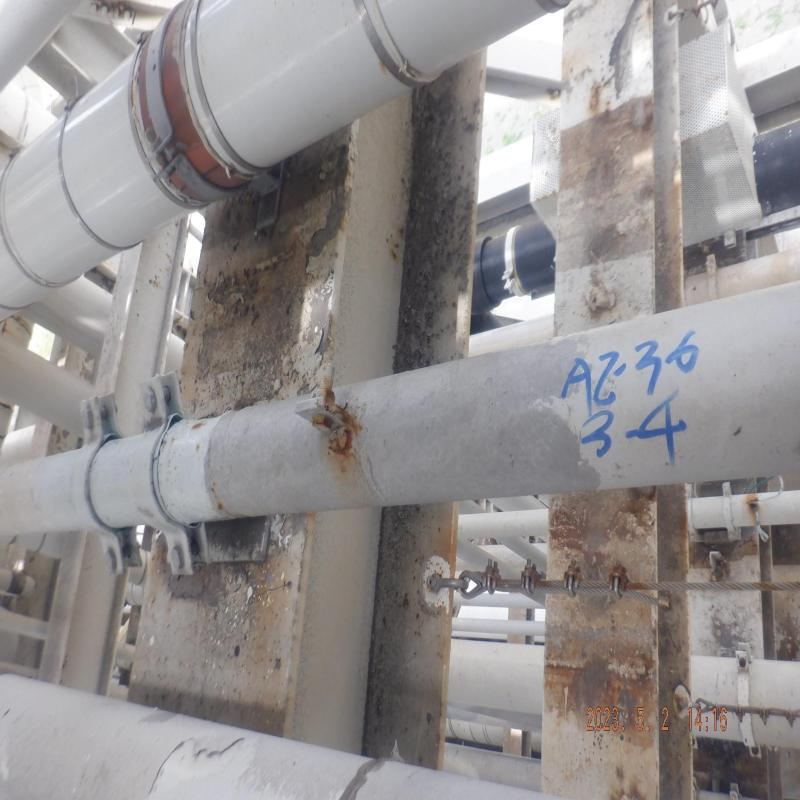corrosion: (316, 391, 359, 461)
